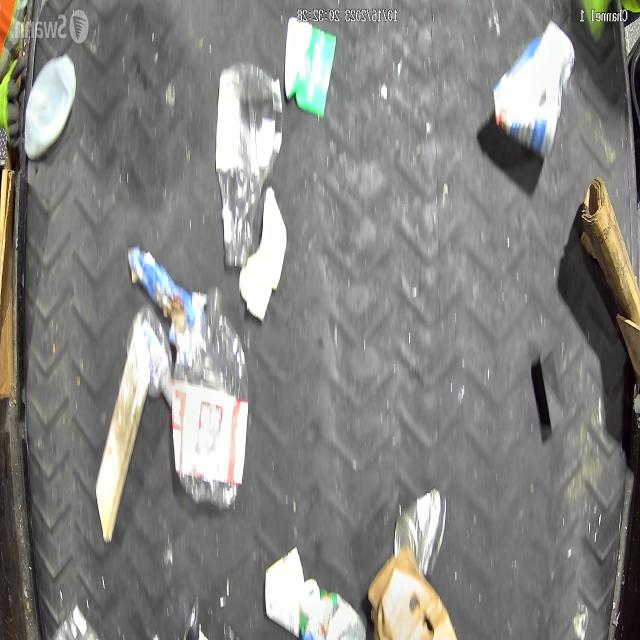can: (492, 16, 575, 161), (393, 487, 447, 577)
milk_jug: (23, 54, 77, 160)
plastic_bottle: (171, 281, 249, 509)
